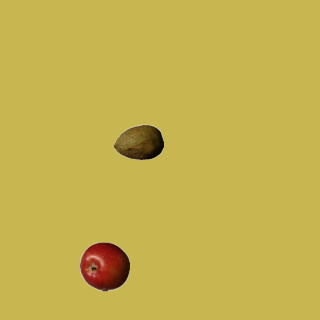Apple Braeburn: (79, 241, 129, 291)
Papaya: (113, 117, 163, 167)
